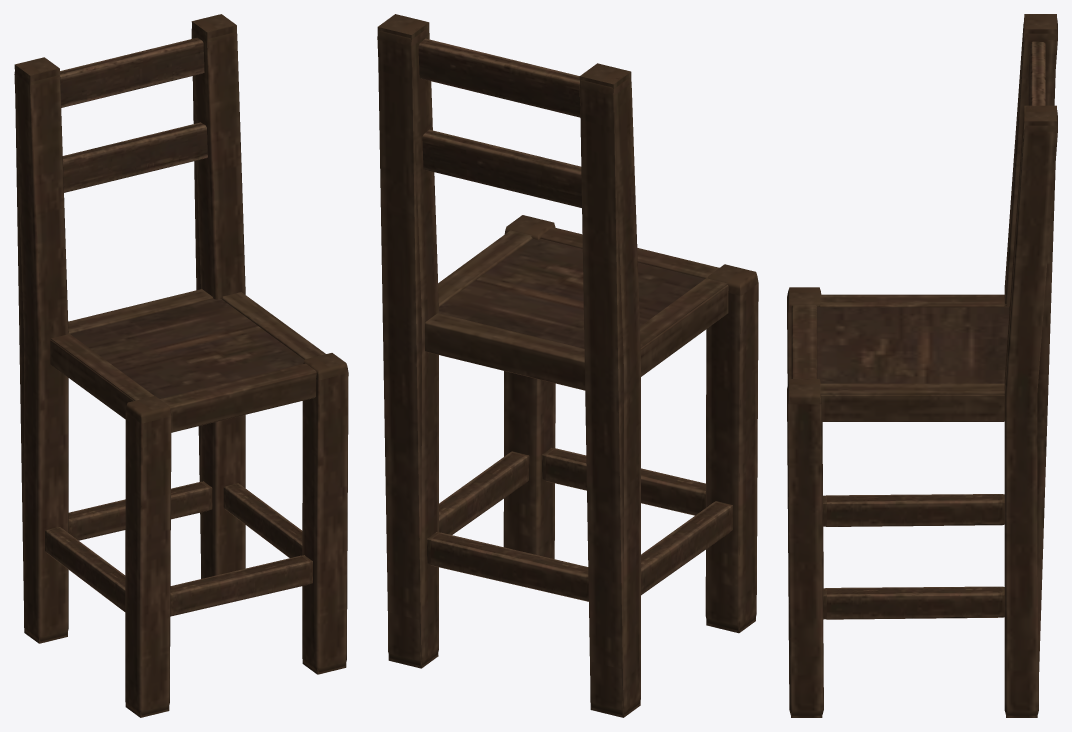
The model's file is Chair.glb.
3 views of the same model, side by side, from view 1: azimuth 30°, elevation 25°; view 2: azimuth 150°, elevation 25°; view 3: azimuth 270°, elevation 25° (orthographic). The views are drawn at different scales.
Visible parts, largest first — view 1: Chair; view 2: Chair; view 3: Chair.
Part boxes in pixels (x1,y1,x2,y2): Chair: [14, 14, 348, 717]; Chair: [377, 14, 758, 717]; Chair: [787, 14, 1057, 717].
Size of the model in its own units: 0.4324 by 1.12 by 0.4586.
Materials: 1 (1 with a texture image).
